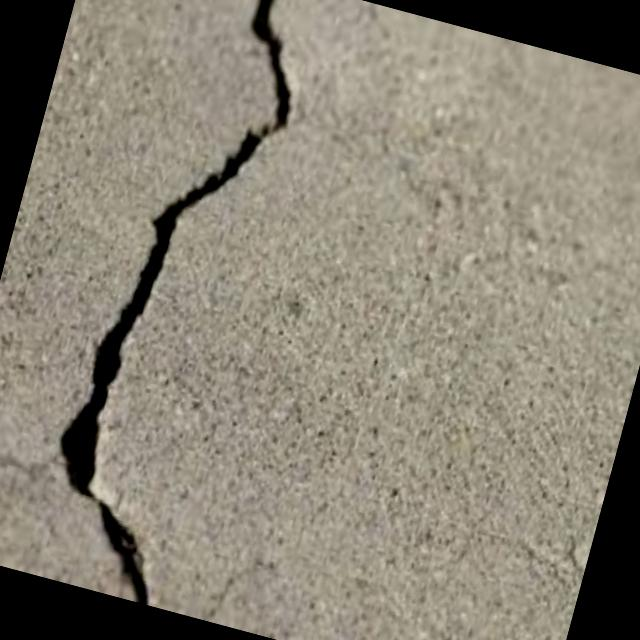crack: (24, 0, 326, 607)
